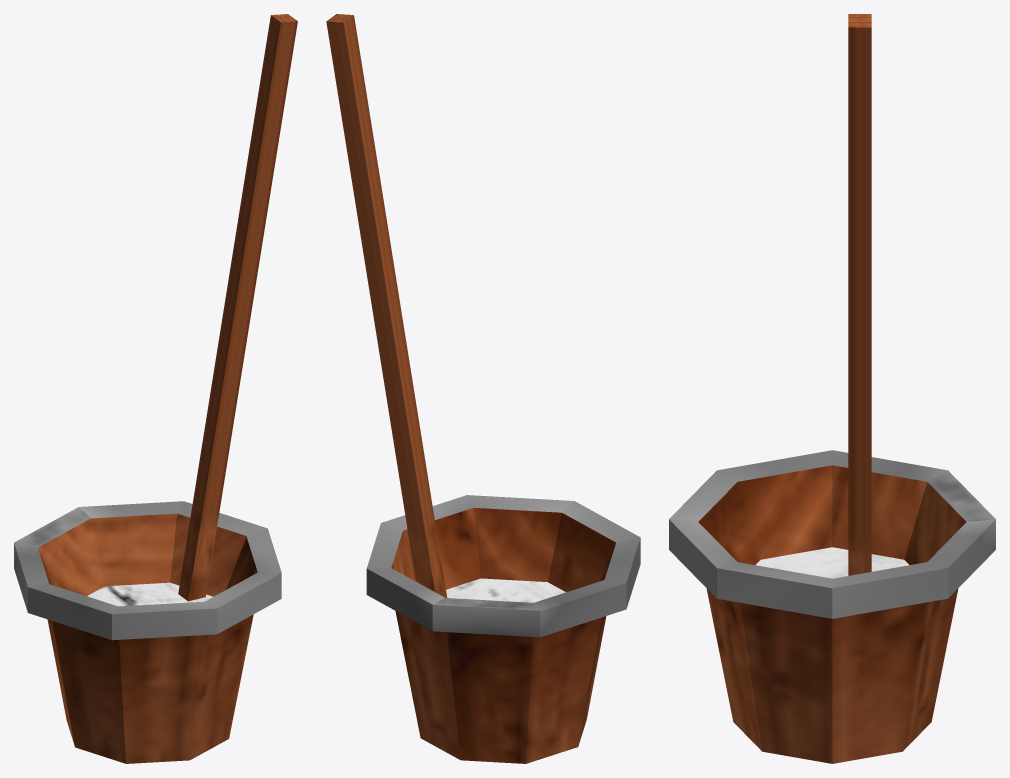
File: BroomBucket.fbx
3 renders of one model, left to right at view 1: azimuth 30°, elevation 25°; view 2: azimuth 150°, elevation 25°; view 3: azimuth 270°, elevation 25°, orthographic. The views are drawn at different scales.
Parts seen in each view (by area): view 1: Bucket, Broom; view 2: Bucket, Broom; view 3: Bucket, Broom.
Part boxes in pixels (x1,y1,x2,y2): Bucket: (14,501,281,763); Broom: (178,14,297,601); Bucket: (366,495,640,763); Broom: (326,14,447,597); Bucket: (669,450,995,763); Broom: (848,14,871,575).
Bounding box in the file's own units: 215 × 495 × 186.
